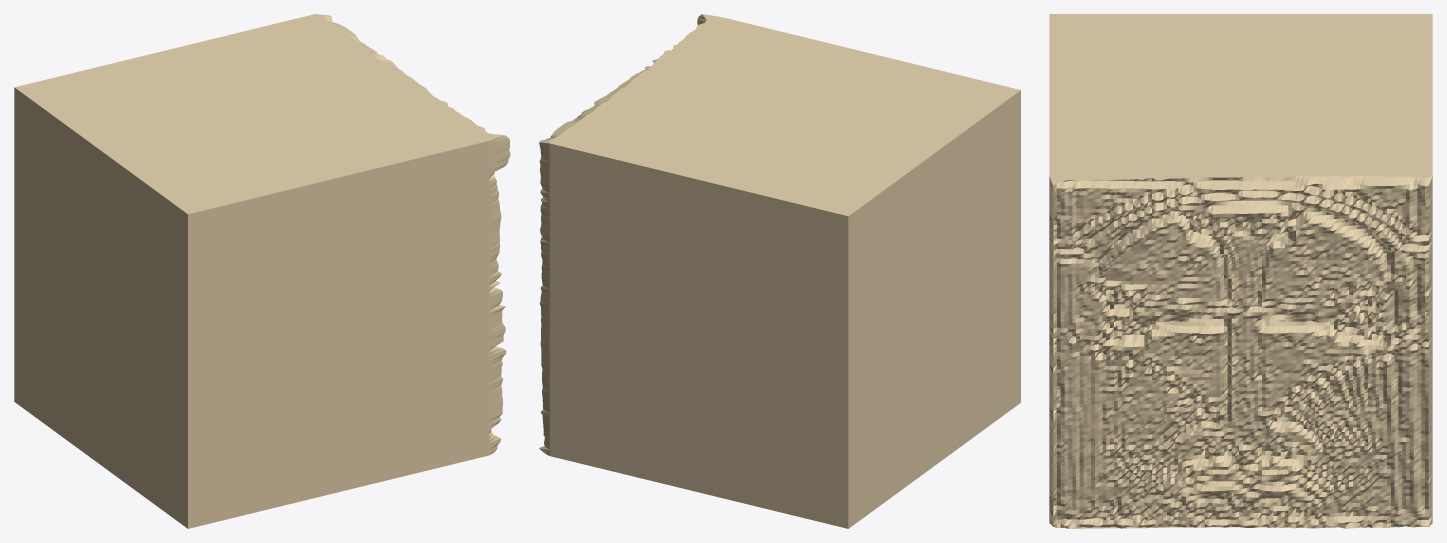
File: cross8.png.obj
3 views of the same model, side by side, from view 1: azimuth 30°, elevation 25°; view 2: azimuth 150°, elevation 25°; view 3: azimuth 270°, elevation 25° (orthographic). The views are drawn at different scales.
Visible parts, largest first — view 1: Cube; view 2: Cube; view 3: Cube.
Boxes of the visible parts, x1=… form: Cube: x1=14, y1=14, x2=510, y2=528; Cube: x1=539, y1=14, x2=1020, y2=528; Cube: x1=1049, y1=14, x2=1432, y2=528.
Size of the model in its own units: 1.08 by 1 by 1.
